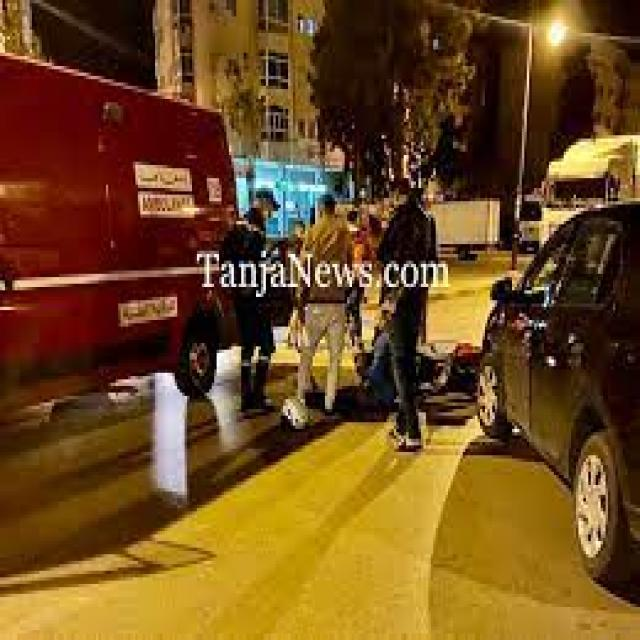ambulance: (2, 52, 235, 370)
